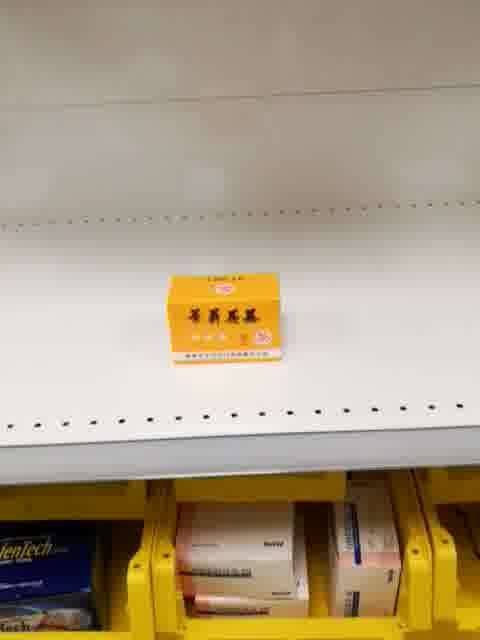jasminetea: (163, 269, 288, 367)
